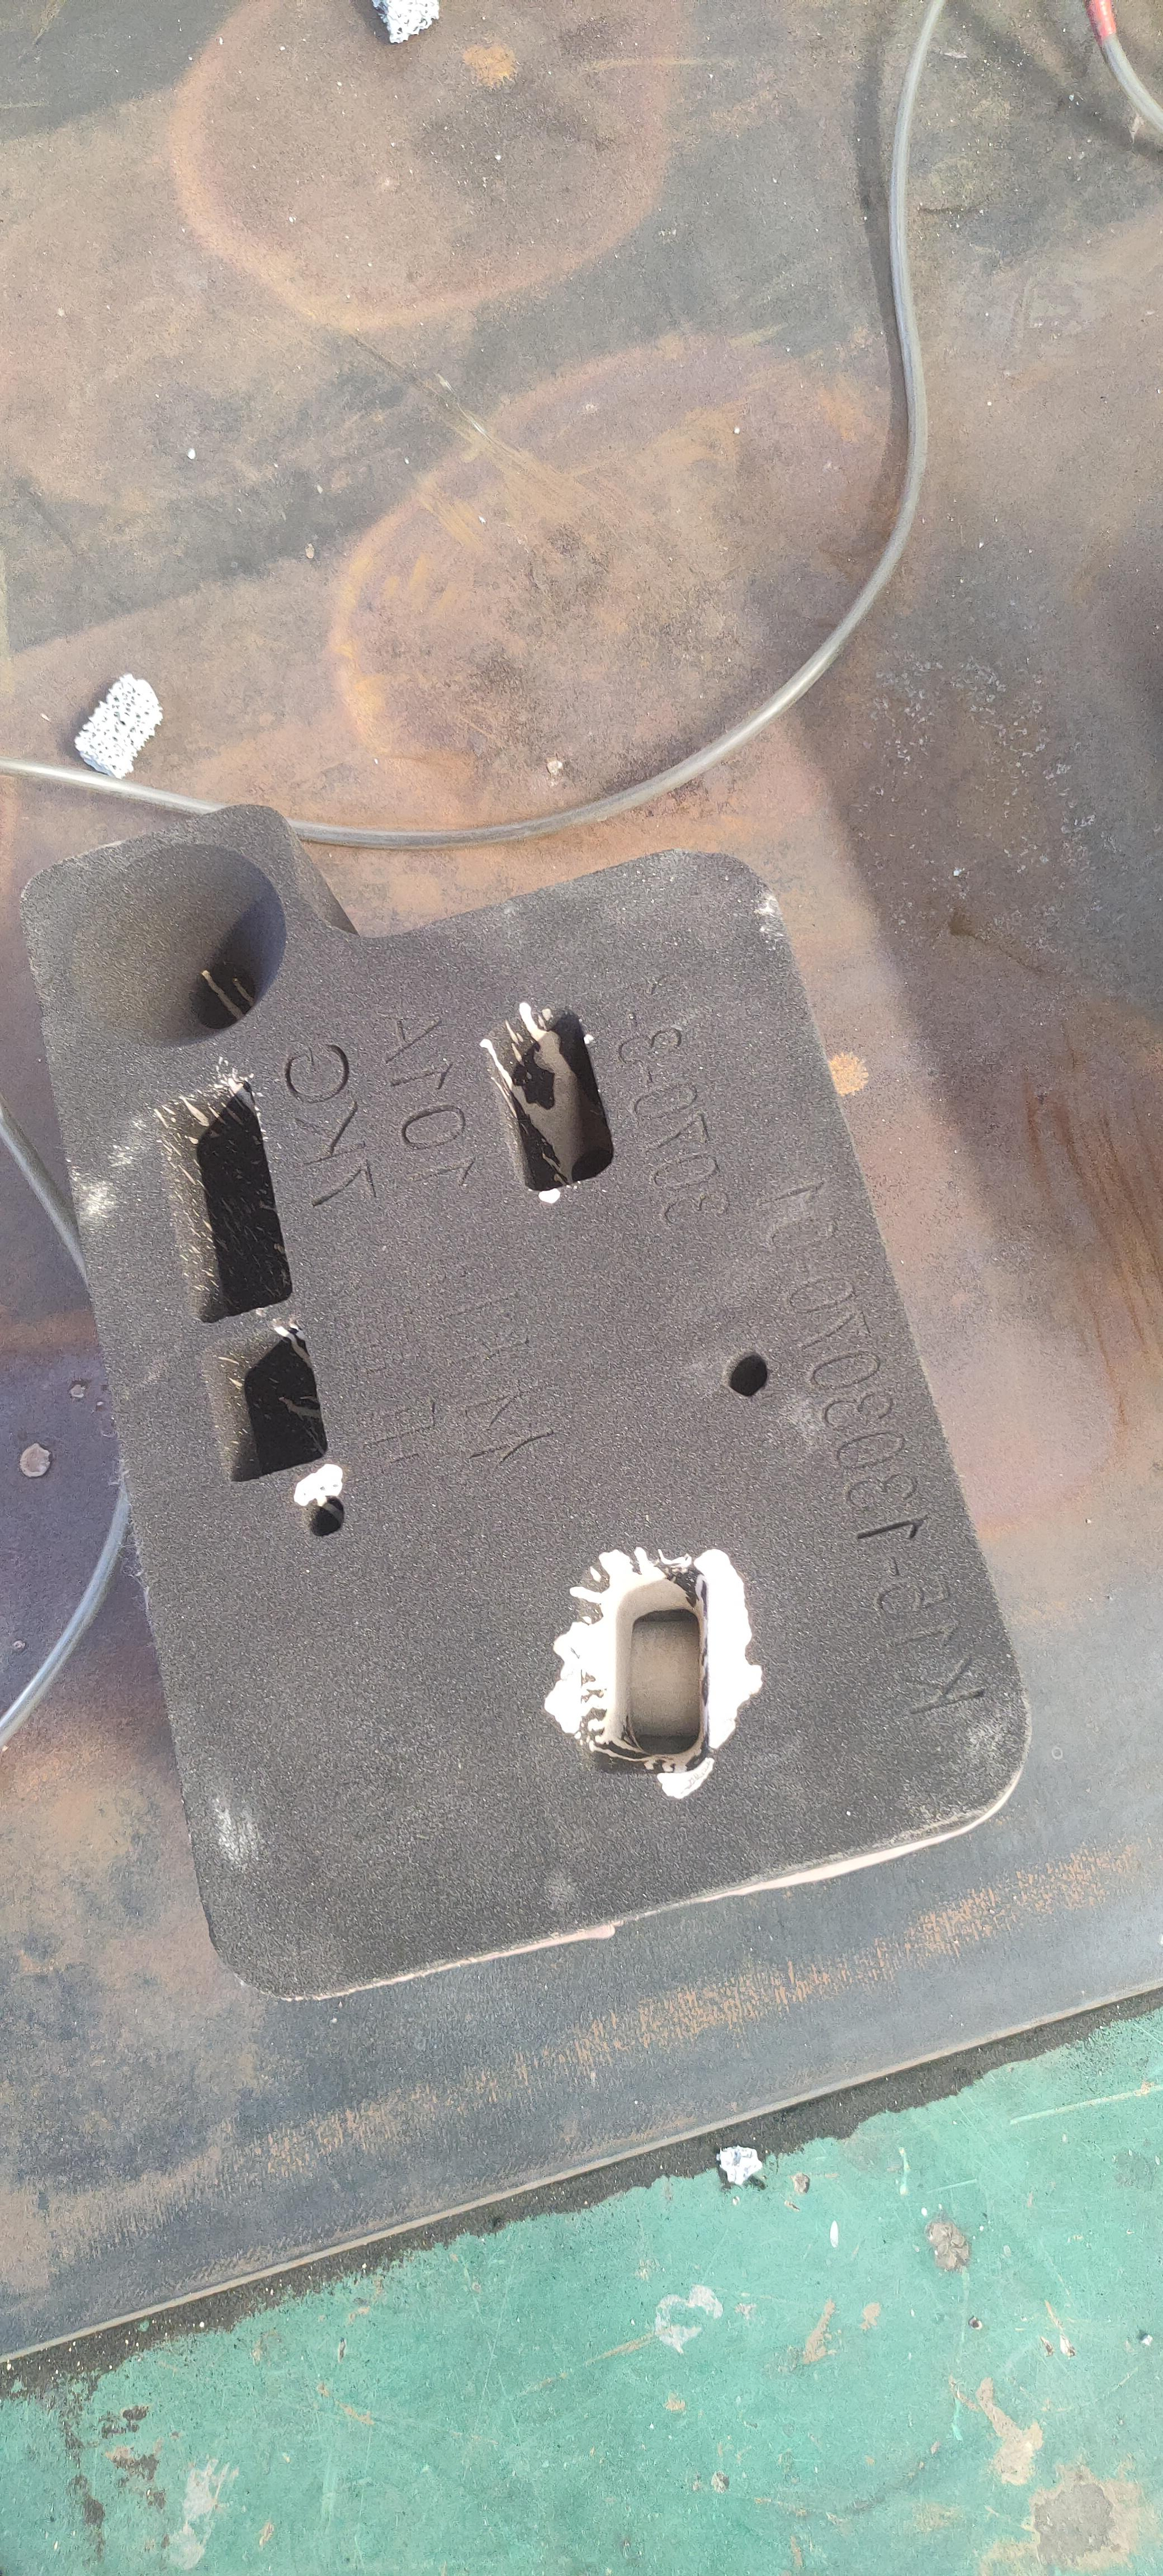pouring hole: (69, 841, 289, 1050)
